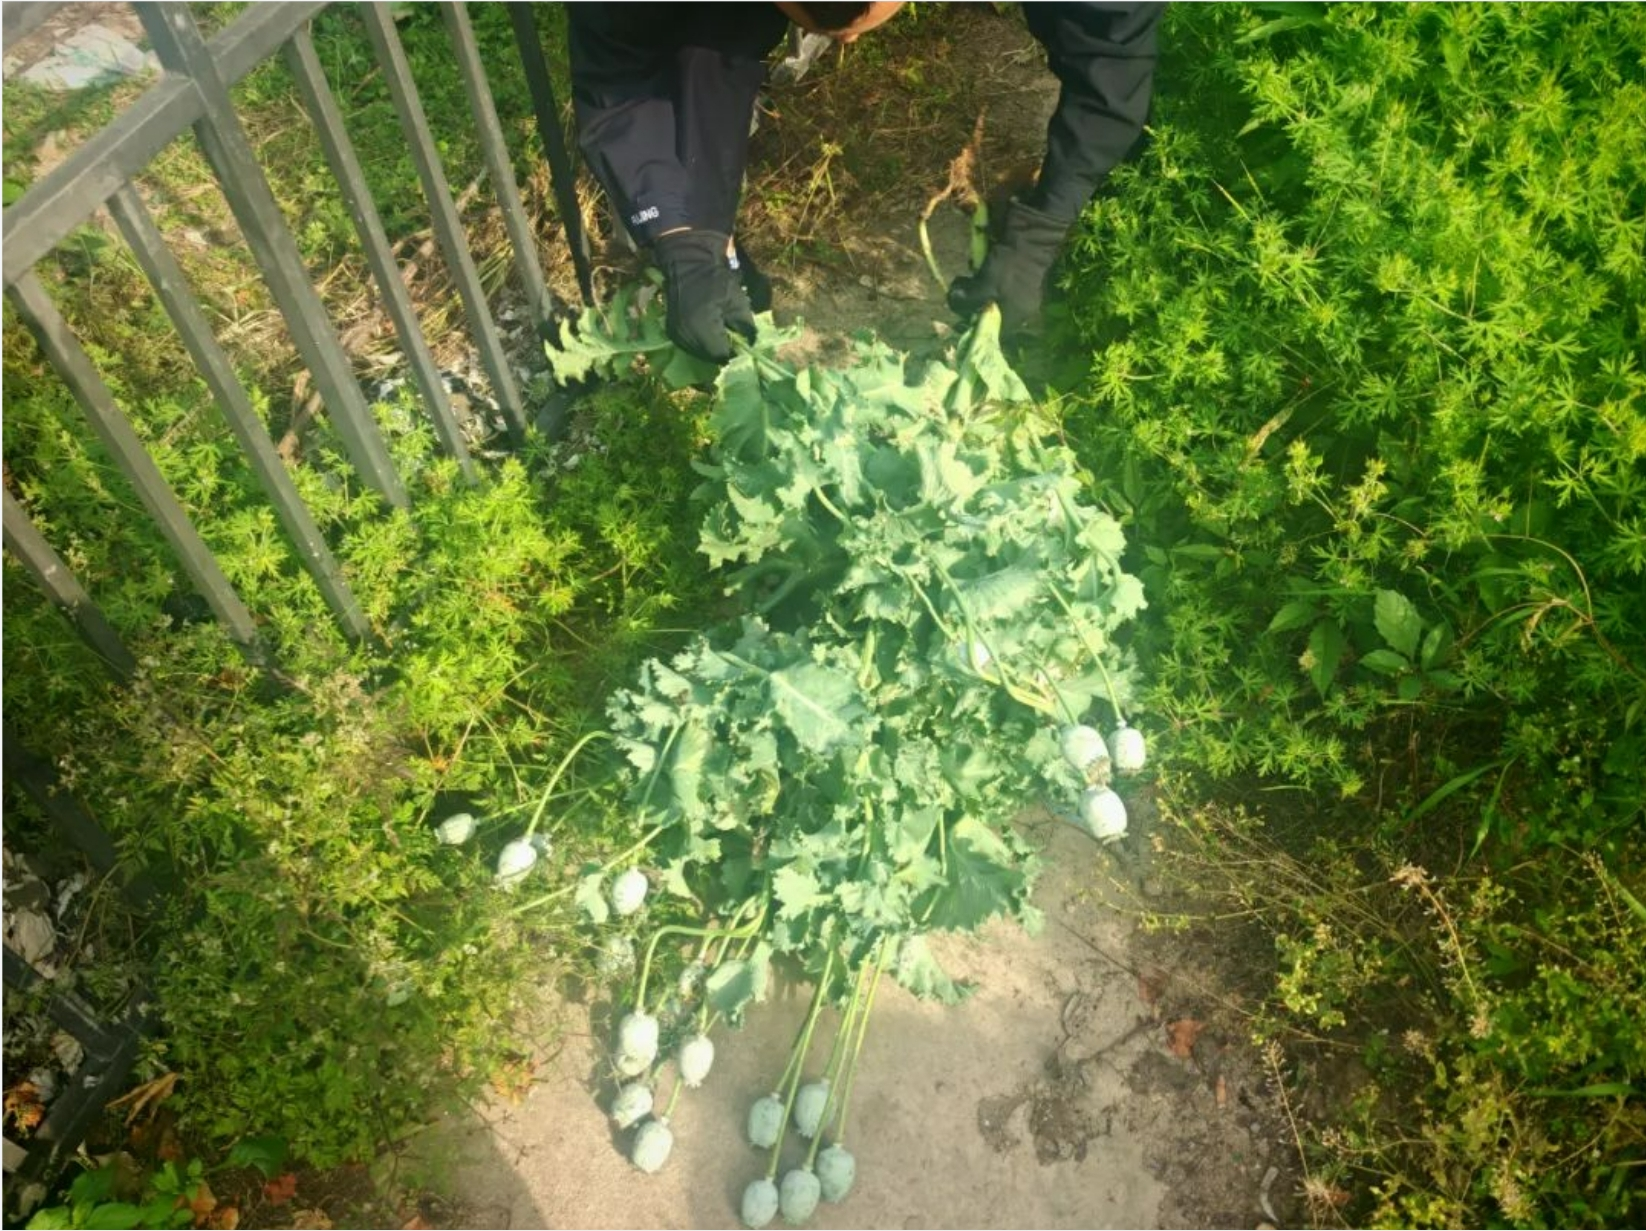Poppy: (433, 304, 1182, 1223)
